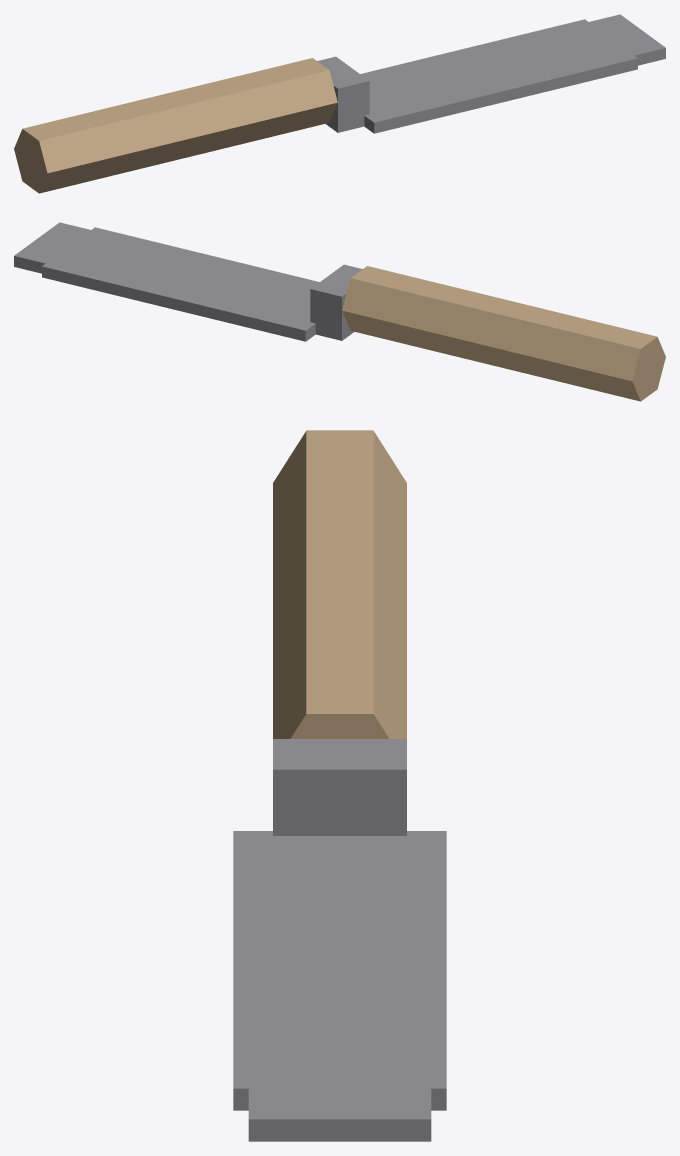
Rendered from prop-putty-knife.fbx.
3 views of the same model, one above another, from view 1: azimuth 30°, elevation 25°; view 2: azimuth 150°, elevation 25°; view 3: azimuth 270°, elevation 25° (orthographic). The views are drawn at different scales.
Parts seen in each view (by area): view 1: prop-putty-knife; view 2: prop-putty-knife; view 3: prop-putty-knife.
Part boxes in pixels (bbox=[...]): prop-putty-knife: bbox=[14, 14, 665, 193]; prop-putty-knife: bbox=[14, 222, 665, 401]; prop-putty-knife: bbox=[233, 430, 446, 1141].
Size of the model in its own units: 23.2 by 2.05 by 3.5.
